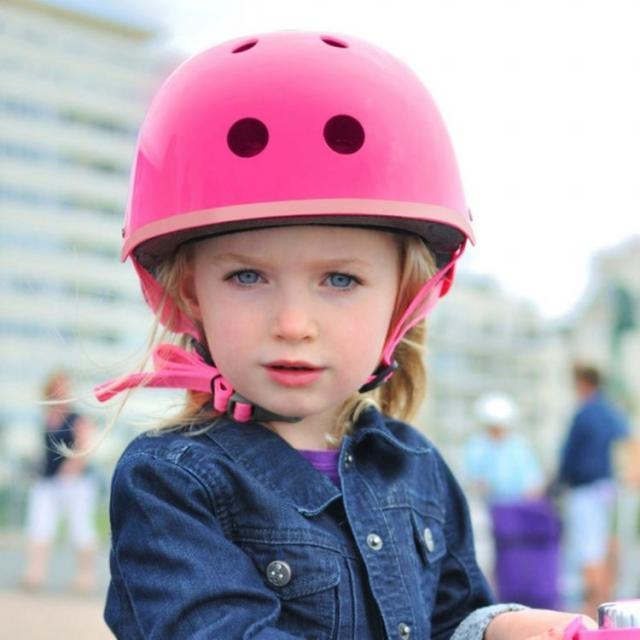Helmet: (99, 25, 479, 439)
